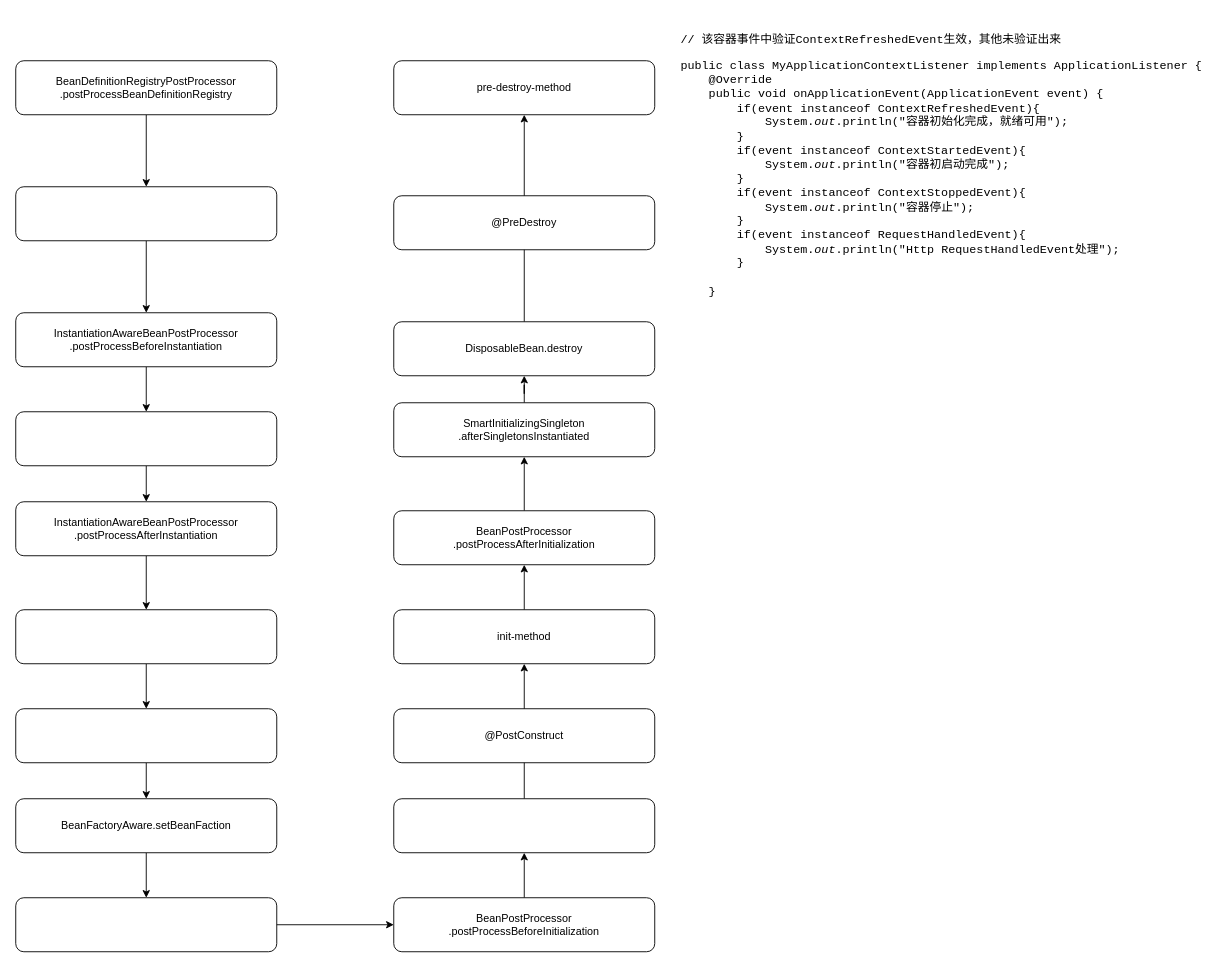
This 1218x968 diagram has some shape labels left out. The centre of each missing label's shape, as x and y in pixels:
ApplicationContextAware .setApplicationContext: [146,924]
BeanFactoryPostProcessor .postProcessorBeanFactory: [146,213]
BeanNameAware.setBeanName: [146,735]
InitializingBean.afterPropertiesSet: [524,825]
set方法执行: [146,636]
无参构造: [146,438]
